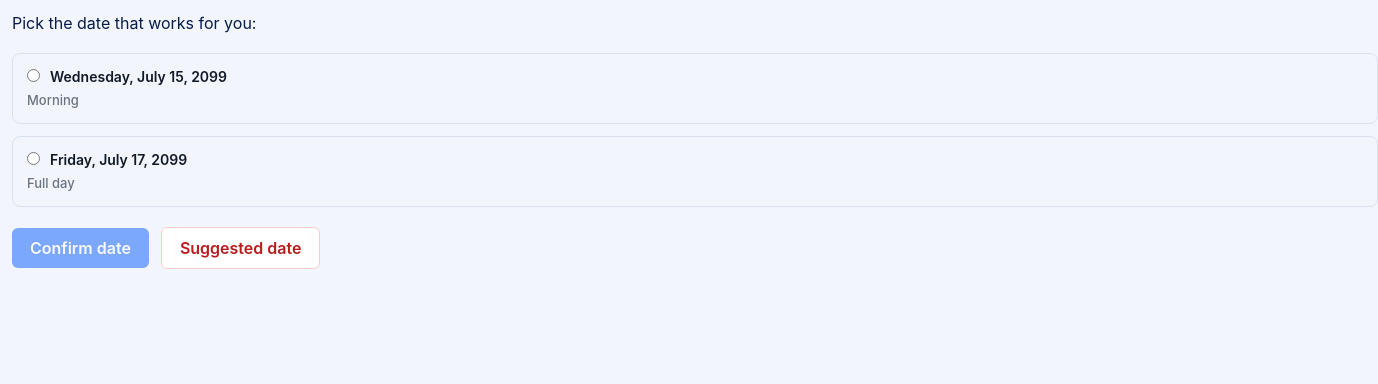
Scenario: BookingPicker › reveals a required date picker on "Suggested date" and blocks submit until a date is chosen
The image size is (1378, 384).
Step 1. Click the button "Suggested date" → (241, 248), box x1=161 y1=227 x2=320 y2=269
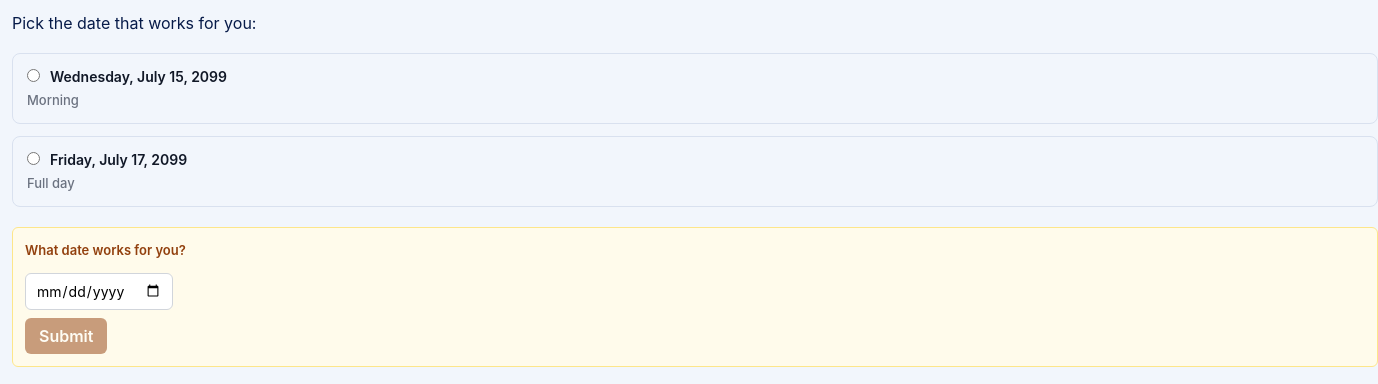
Now the button "Submit" is disabled, box x1=25 y1=318 x2=107 y2=354
Step 2. Type "2099-08-01" into the date field named "suggested date" → (99, 291), box x1=25 y1=273 x2=173 y2=310
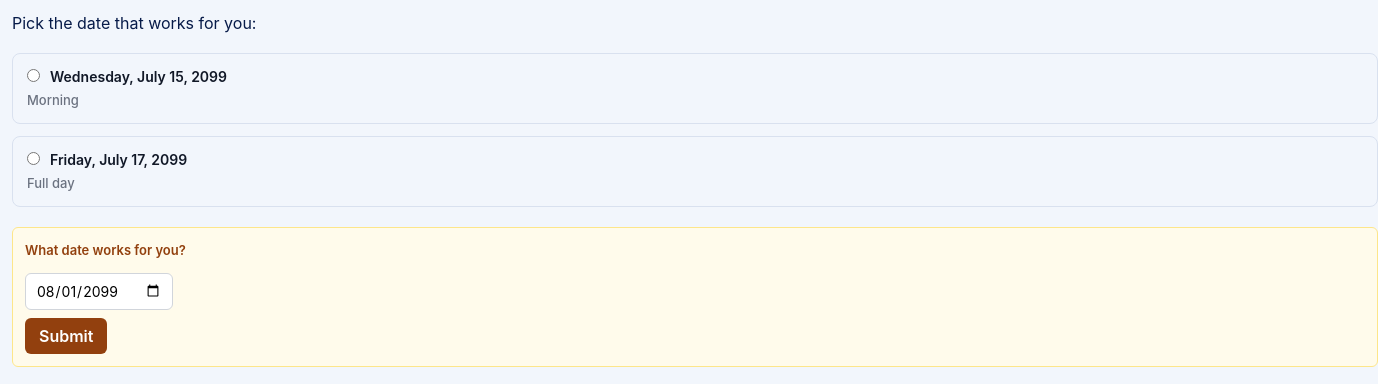
Now the button "Submit" is enabled, box x1=25 y1=318 x2=107 y2=354
